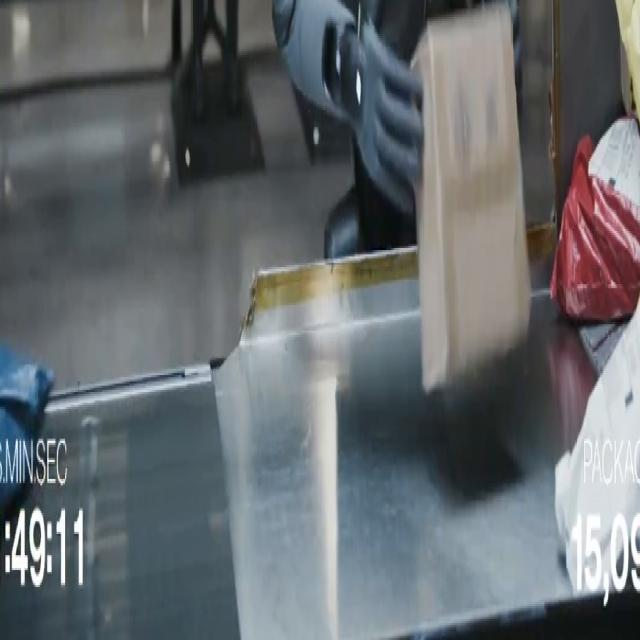package: (413, 5, 530, 392), (555, 306, 639, 593), (551, 117, 639, 322), (616, 0, 639, 114)
